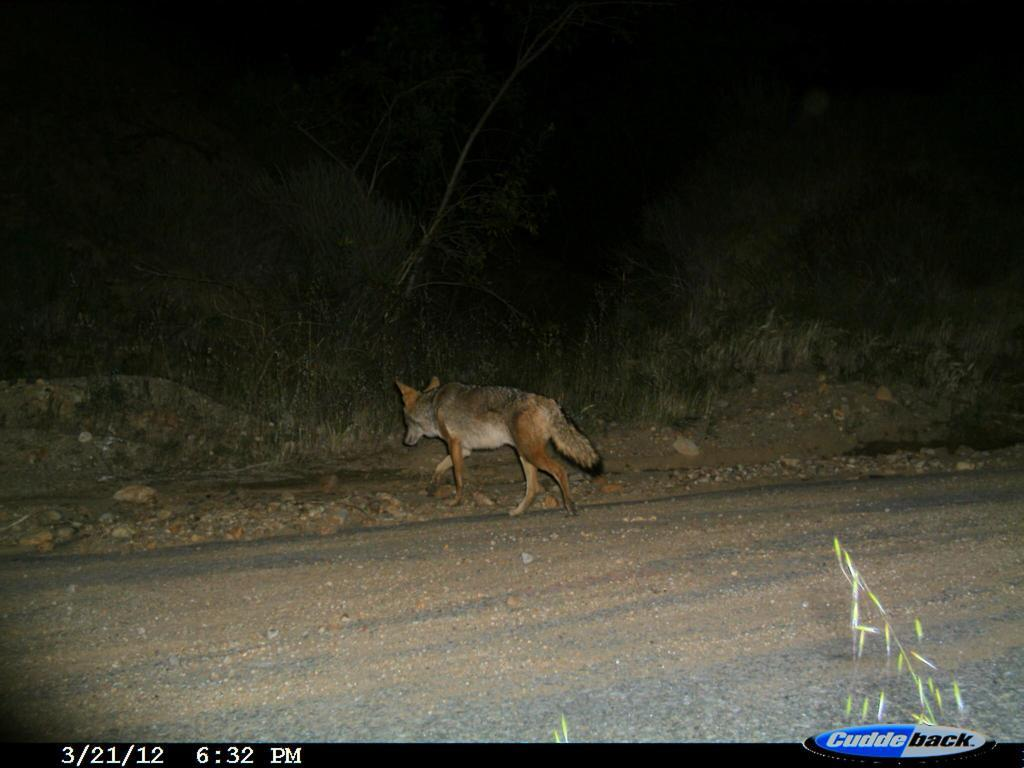coyote: (391, 369, 614, 533)
